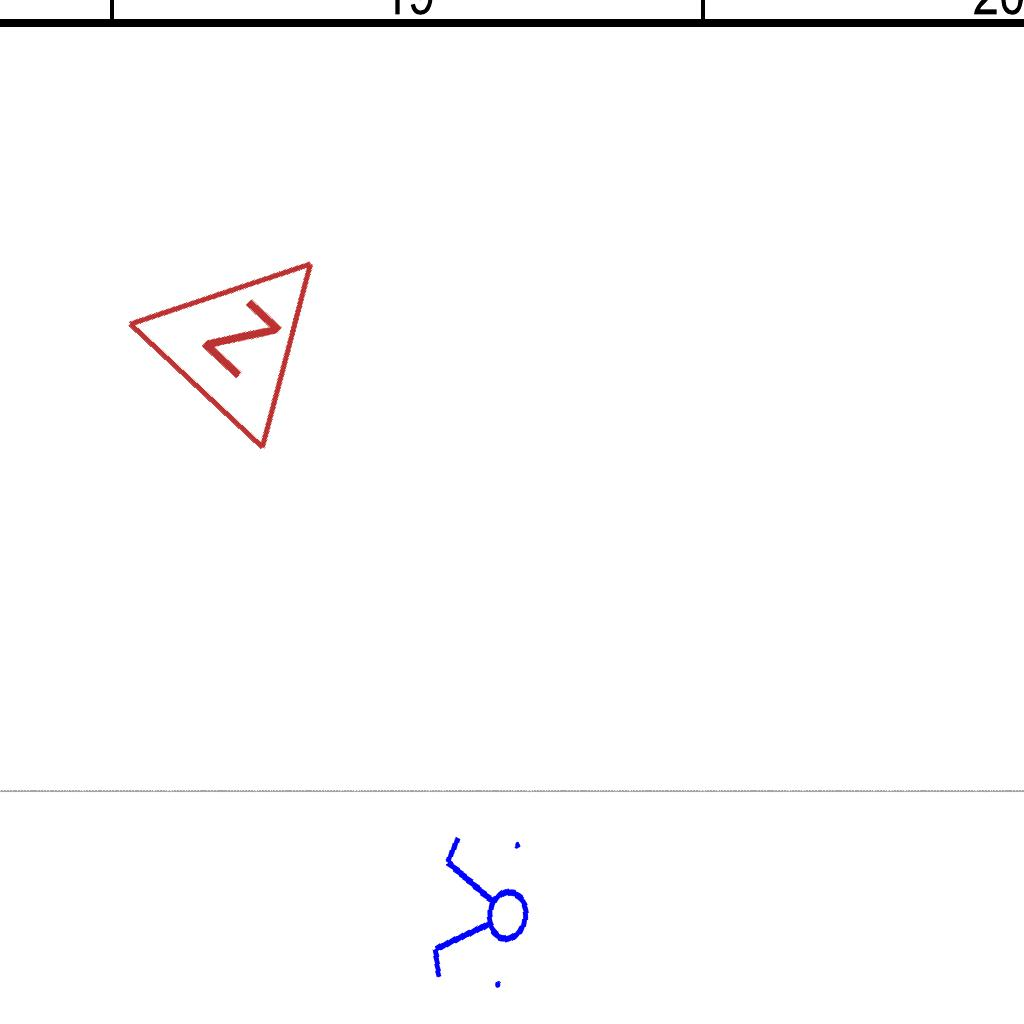Serienschalter: (422, 823, 542, 1003)
Zimmersignalleuchte: (111, 184, 391, 464)
